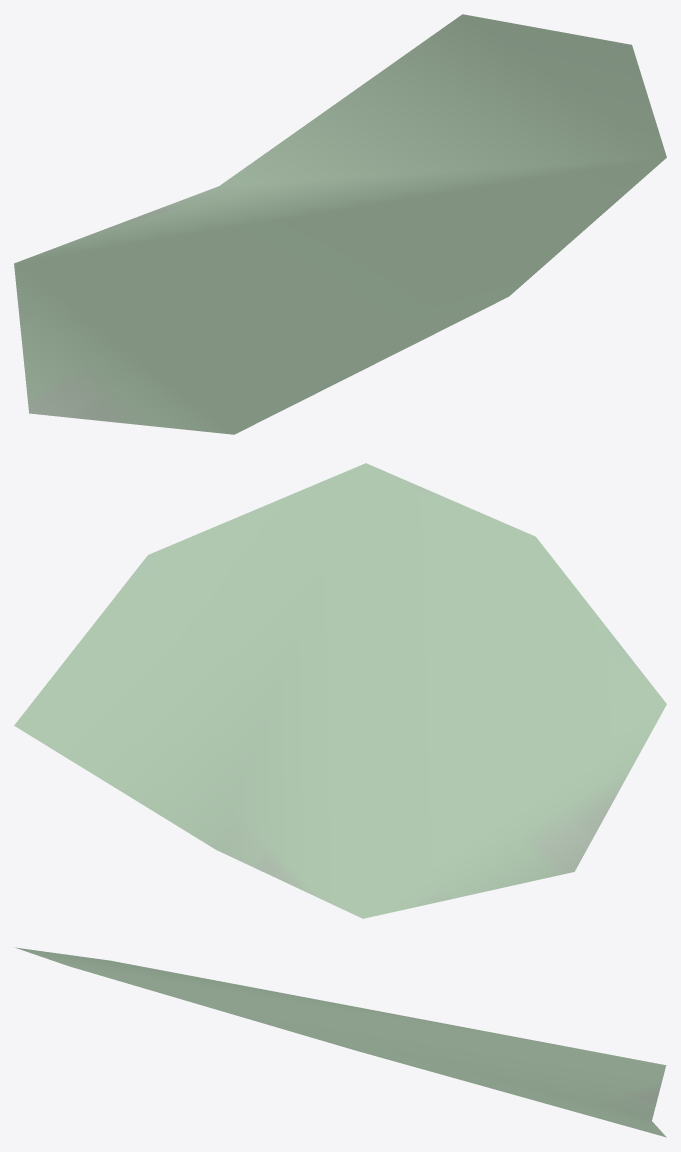
The model's file is TROLLHOLE02_HOLECAP125.fbx.
The picture shows the model from 3 angles, top to bottom: view 1: azimuth 30°, elevation 25°; view 2: azimuth 150°, elevation 25°; view 3: azimuth 270°, elevation 25°; orthographic projection. The views are drawn at different scales.
Parts seen in each view (by area): view 1: TROLLHOLE02_HOLECAP125; view 2: TROLLHOLE02_HOLECAP125; view 3: TROLLHOLE02_HOLECAP125.
Part boxes in pixels (x1=…): TROLLHOLE02_HOLECAP125: x1=14, y1=14, x2=666, y2=434; TROLLHOLE02_HOLECAP125: x1=14, y1=463, x2=666, y2=918; TROLLHOLE02_HOLECAP125: x1=14, y1=947, x2=666, y2=1137.
Size of the model in its own units: 15650 by 7263 by 16855.
1 material, 1 textured.
